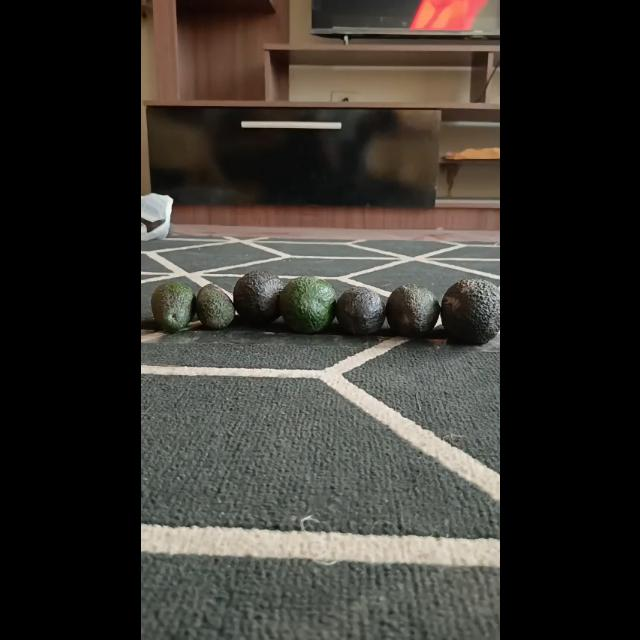Primera: (439, 277, 498, 343), (278, 276, 336, 332), (232, 269, 284, 325)
Segunda: (384, 284, 440, 338), (334, 285, 386, 335), (149, 281, 195, 333)
Tercera: (194, 282, 236, 330)
